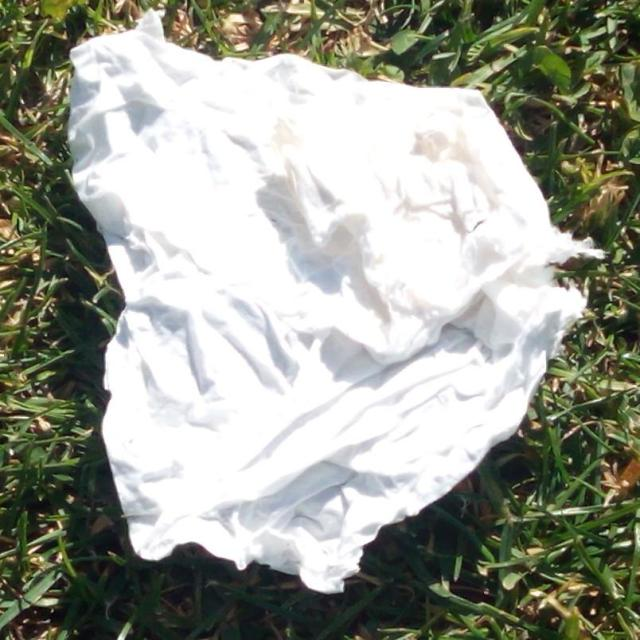litter: (66, 8, 603, 596)
